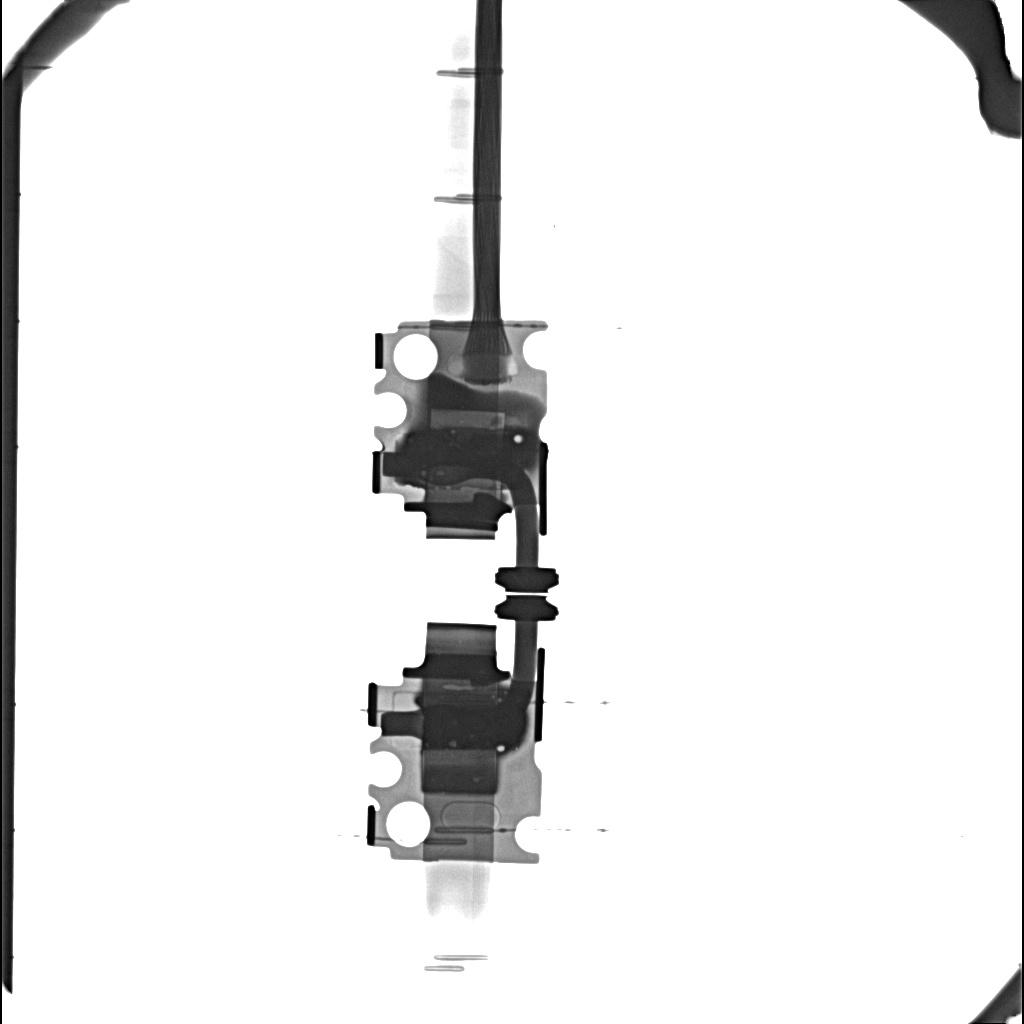defect: (399, 428, 532, 472), (424, 706, 523, 747), (420, 752, 498, 794), (428, 407, 507, 426), (441, 684, 473, 690)
